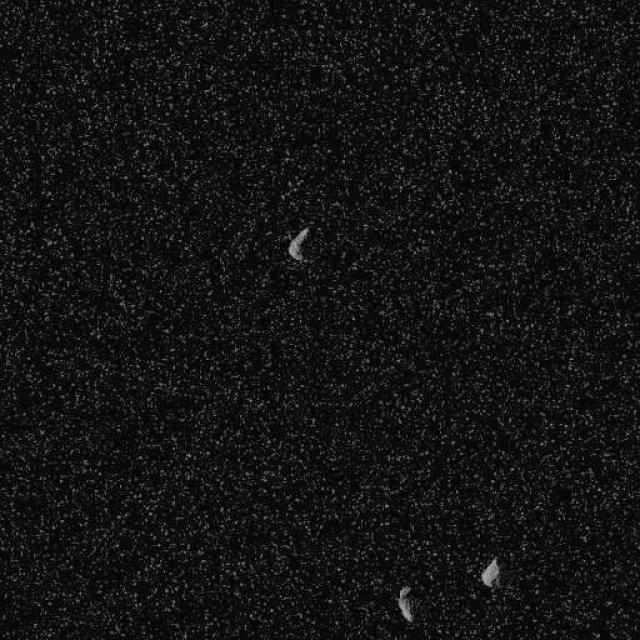D2: (286, 225, 310, 263), (479, 556, 500, 589), (396, 584, 414, 622)
